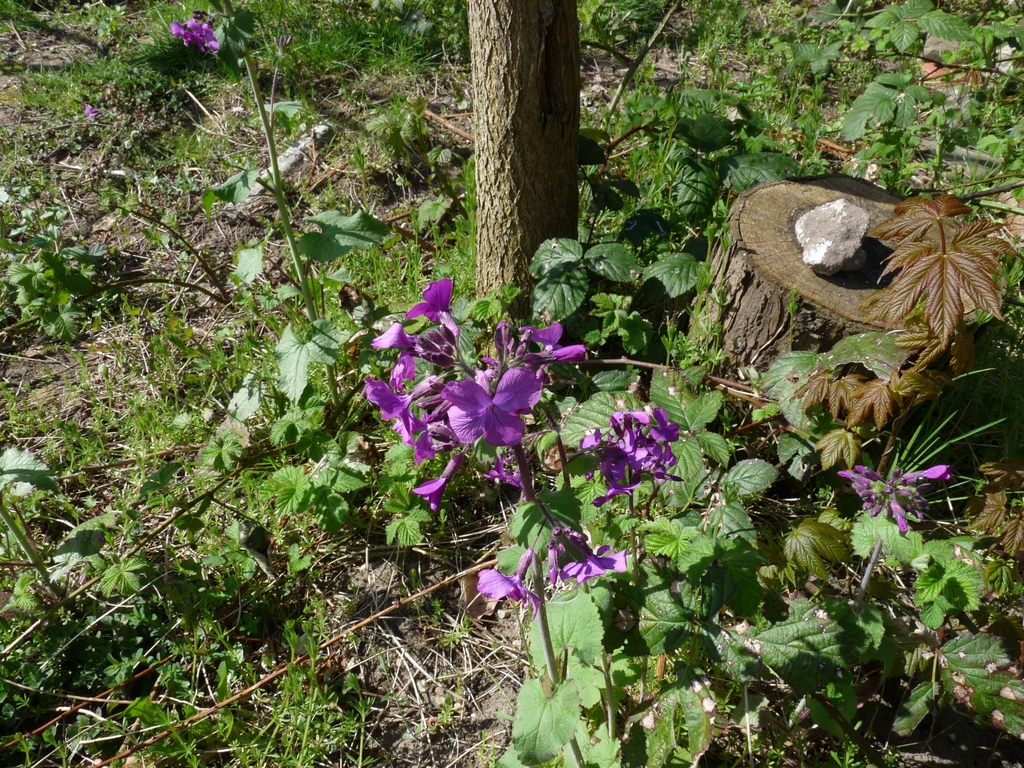Tree: (467, 0, 575, 343)
